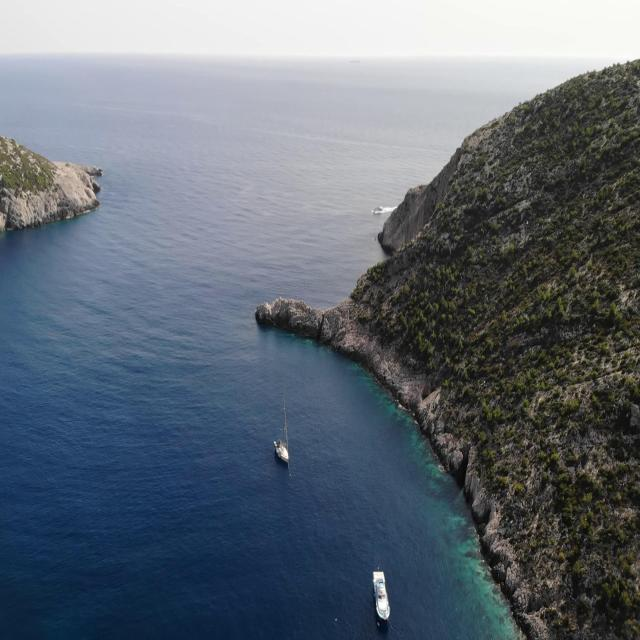boat: (371, 568, 392, 622)
sailboat: (274, 394, 290, 466)
